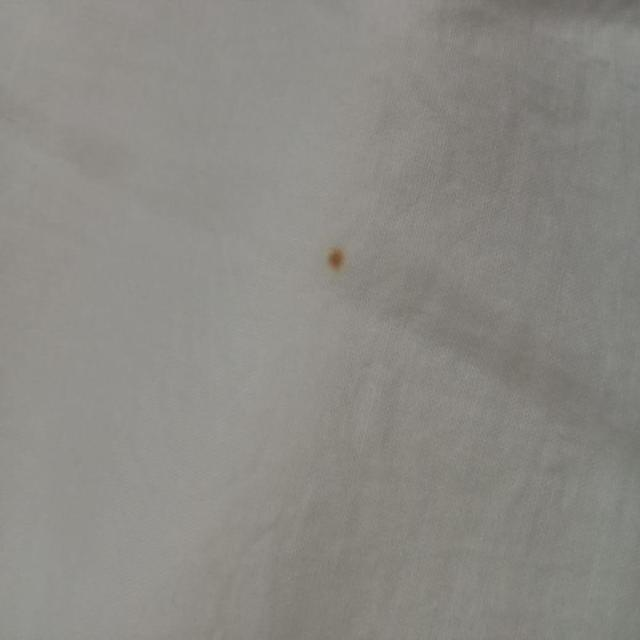stain: (315, 229, 356, 294)
